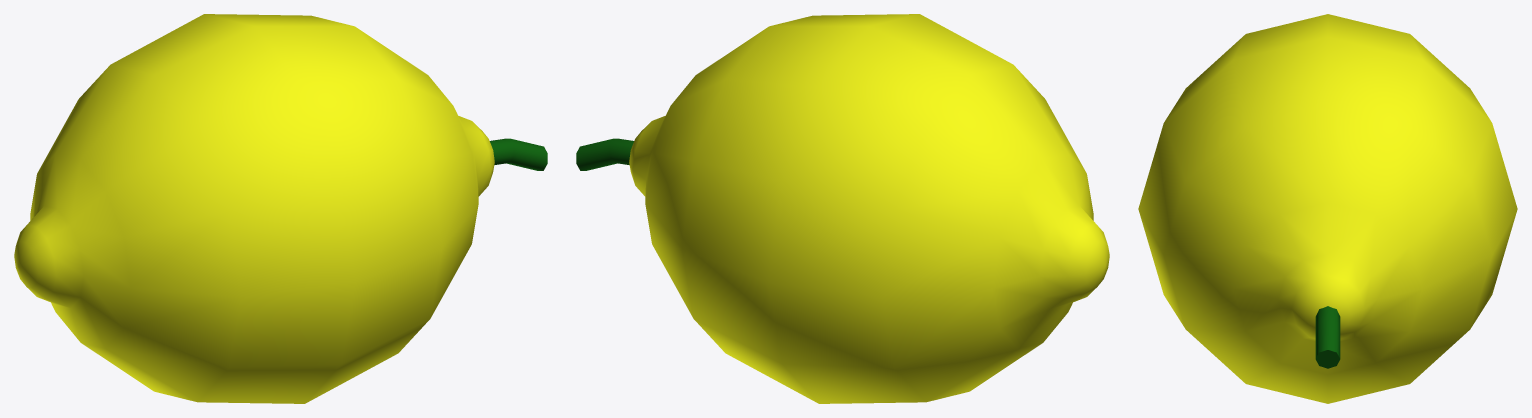
The model's file is Qua chanh.FBX.
3 renders of one model, left to right at view 1: azimuth 30°, elevation 25°; view 2: azimuth 150°, elevation 25°; view 3: azimuth 270°, elevation 25°, orthographic. The views are drawn at different scales.
Parts seen in each view (by area): view 1: Sphere041; view 2: Sphere041; view 3: Sphere041.
Part boxes in pixels (box(x1,y1,x2,y2)): Sphere041: box(14, 14, 547, 403); Sphere041: box(576, 14, 1109, 403); Sphere041: box(1138, 14, 1517, 403).
Bounding box in the file's own units: 2.26 × 1.5 × 1.5.
